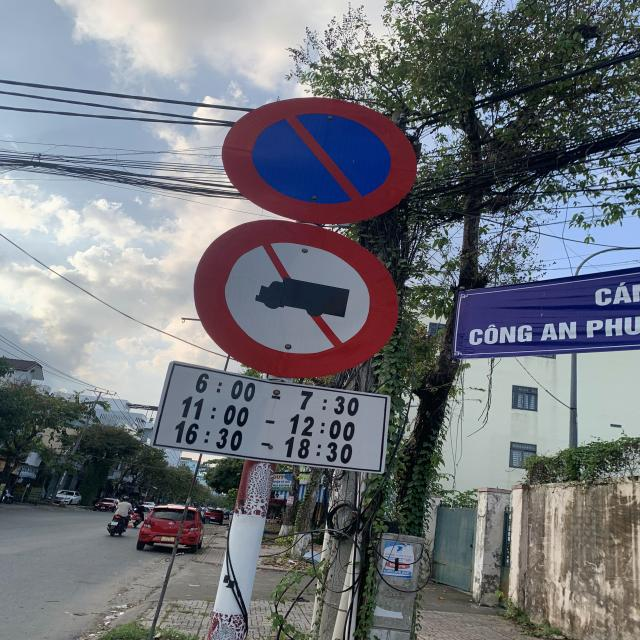Cam_Dau_Xe: (222, 98, 416, 225)
Cam_Xe_Tai: (191, 220, 399, 378)
